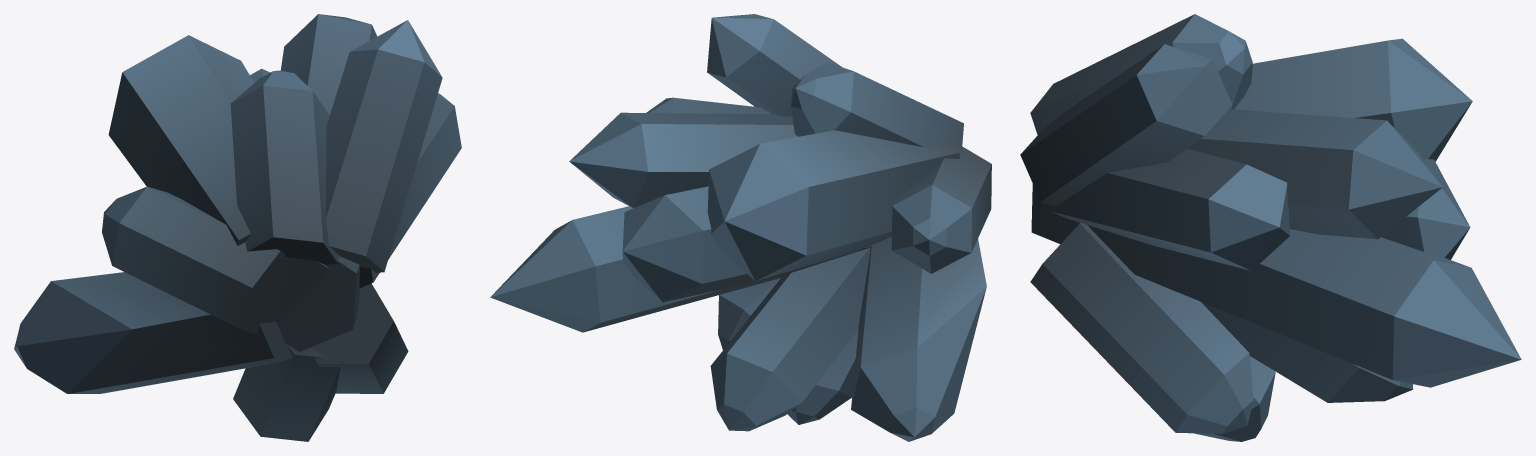
File: CalciteCluster.002.glb
3 views of the same model, side by side, from view 1: azimuth 30°, elevation 25°; view 2: azimuth 150°, elevation 25°; view 3: azimuth 270°, elevation 25° (orthographic). The views are drawn at different scales.
Visible parts, largest first — view 1: CalciteCluster.002; view 2: CalciteCluster.002; view 3: CalciteCluster.002.
Part boxes in pixels (left/top/right/bottom): CalciteCluster.002: left=14, top=14, right=461, bottom=441; CalciteCluster.002: left=490, top=14, right=991, bottom=441; CalciteCluster.002: left=1020, top=14, right=1521, bottom=441.
Size of the model in its own units: 979 by 903 by 942.
